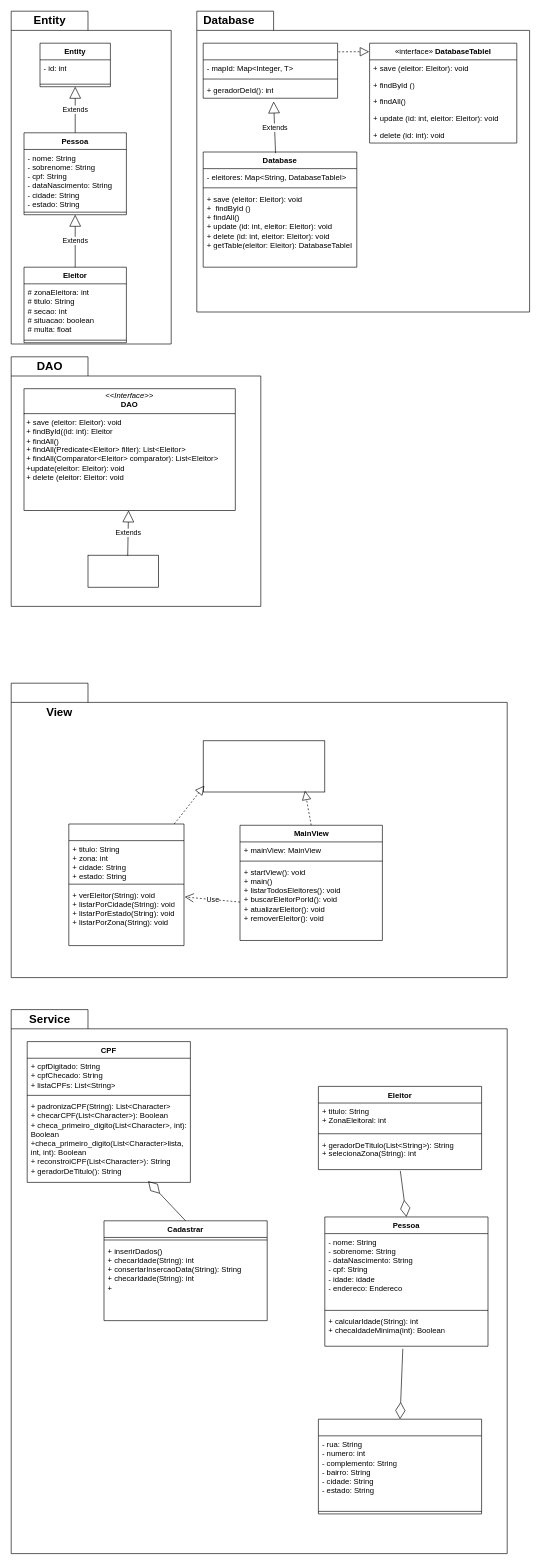
Image size: 541x1565. Some labels were removed from this diagram. The box of each missing label's shape, as (x1, y1, x2, y2) in pixels:
<<Interface>> View + startView(): void: (203, 740, 325, 792)
DAOException: (87, 555, 158, 587)
DatabaseTable: (203, 43, 338, 98)
EleitoresView: (68, 823, 184, 946)
Endereco: (318, 1419, 482, 1514)
